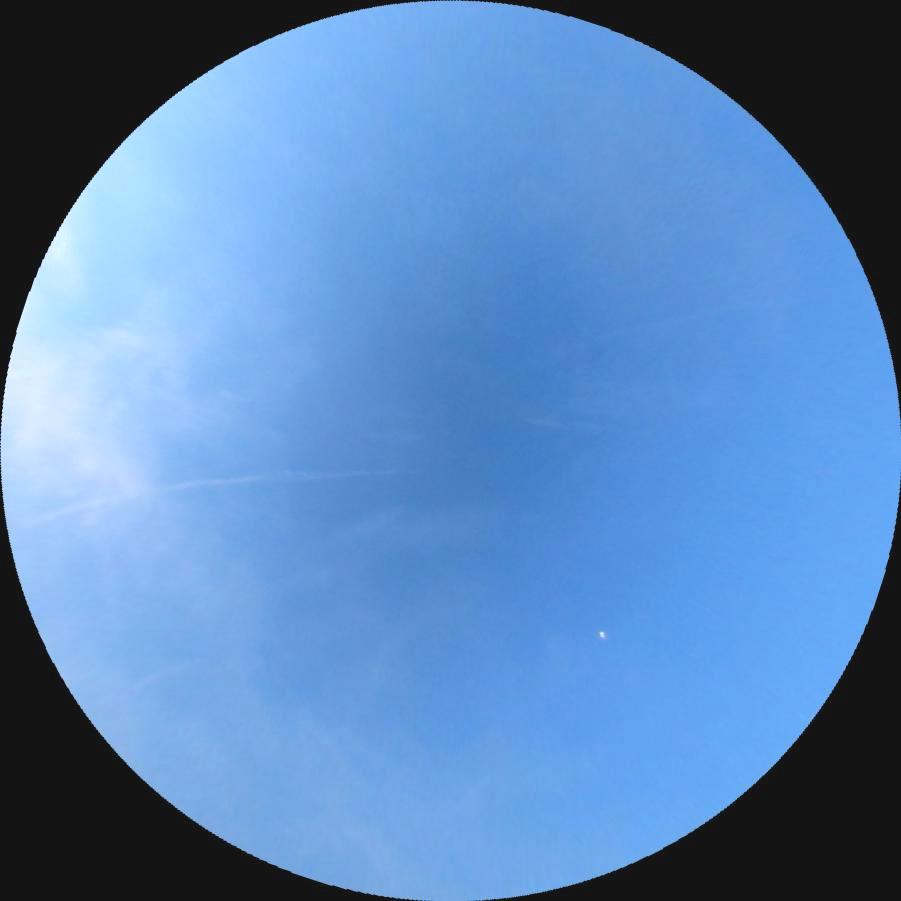contrail veryold: (15, 450, 400, 532)
unknow: (99, 645, 205, 712)
